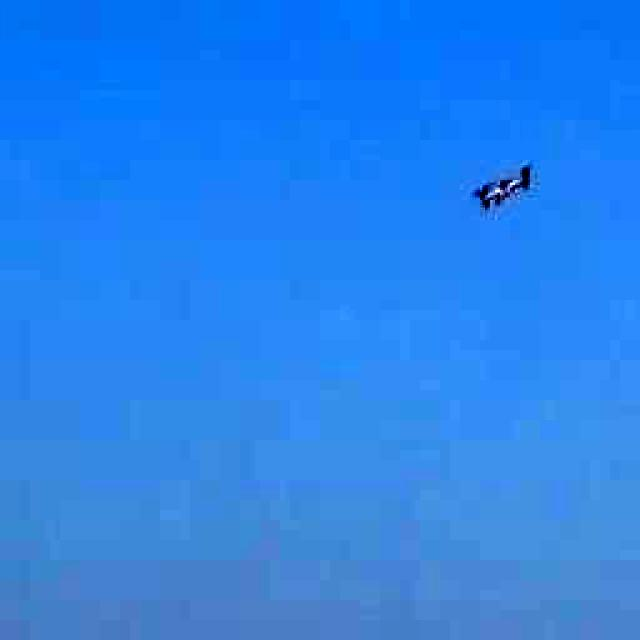bird: (441, 125, 559, 245)
